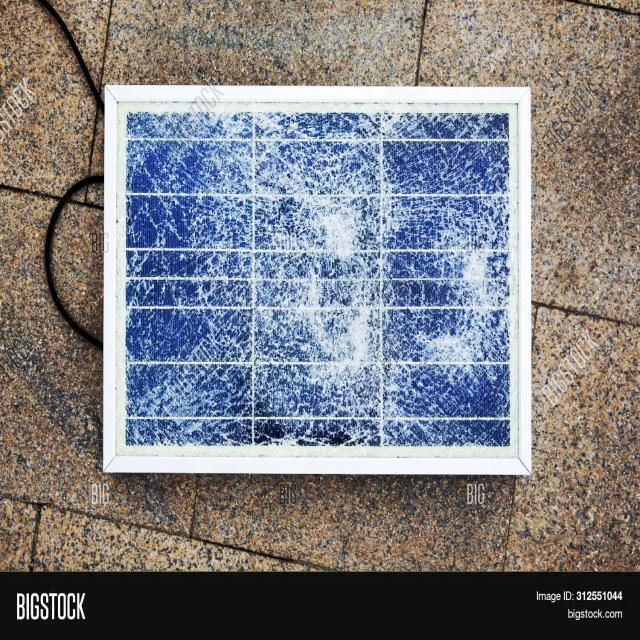faulty: (120, 104, 518, 458)
